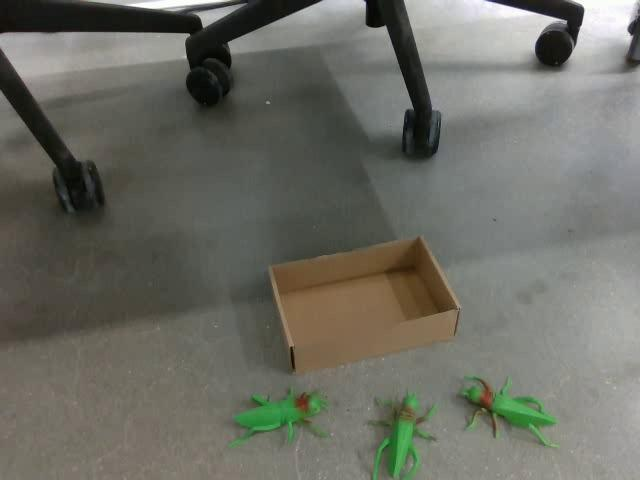box: (267, 234, 462, 375)
grasshopper: (457, 374, 559, 448), (365, 389, 438, 479), (227, 386, 330, 448)
